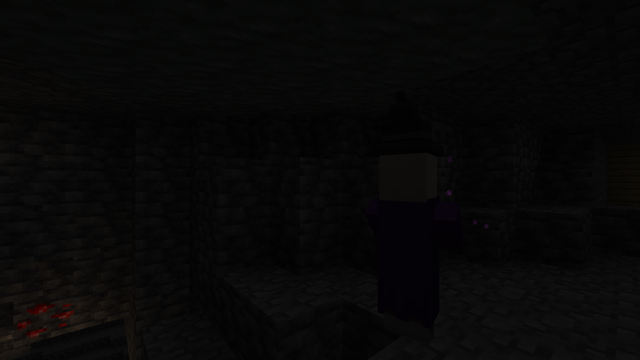sorcieres: (368, 143, 449, 357)
